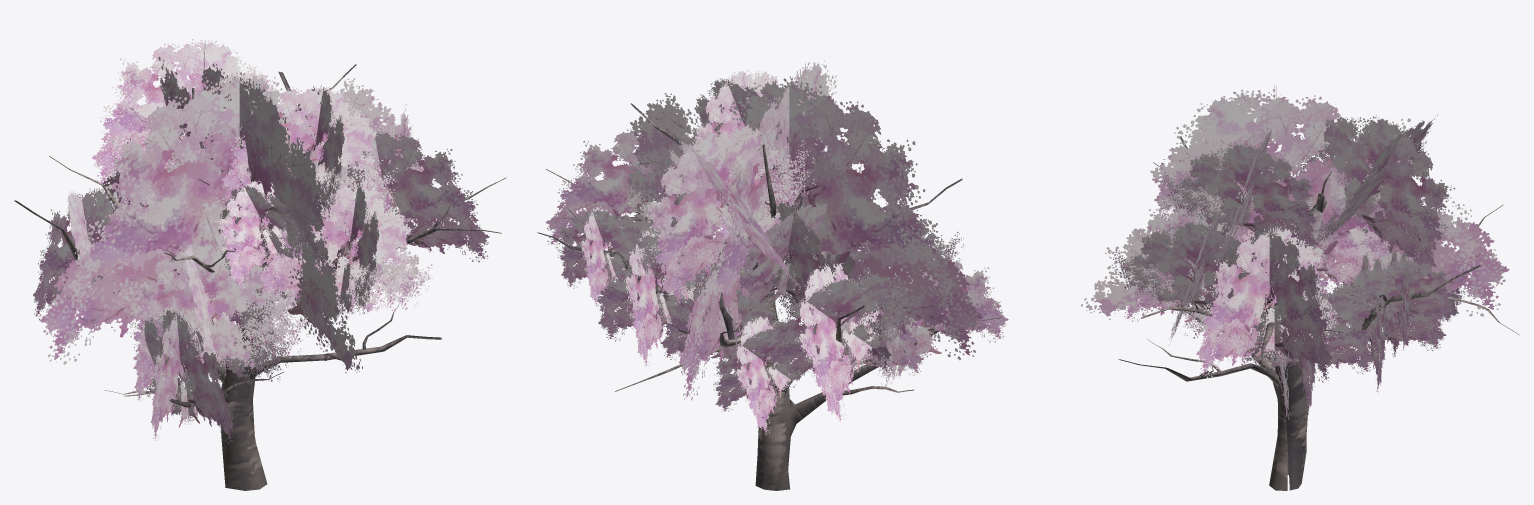
Rendered from Cherry_Fix.fbx.
3 renders of one model, left to right at view 1: azimuth 30°, elevation 25°; view 2: azimuth 150°, elevation 25°; view 3: azimuth 270°, elevation 25°, orthographic. The views are drawn at different scales.
Parts seen in each view (by area): view 1: cherry_Blossum, cherry_tree_Fix; view 2: cherry_Blossum, cherry_tree_Fix; view 3: cherry_Blossum, cherry_tree_Fix.
Boxes of the visible parts, left/top/right/bottom form: cherry_Blossum: left=33, top=39, right=489, bottom=443; cherry_tree_Fix: left=14, top=64, right=506, bottom=490; cherry_Blossum: left=545, top=60, right=1008, bottom=435; cherry_tree_Fix: left=537, top=103, right=1000, bottom=490; cherry_Blossum: left=1081, top=85, right=1509, bottom=419; cherry_tree_Fix: left=1118, top=136, right=1519, bottom=490.
Size of the model in its own units: 160 by 144 by 152.
